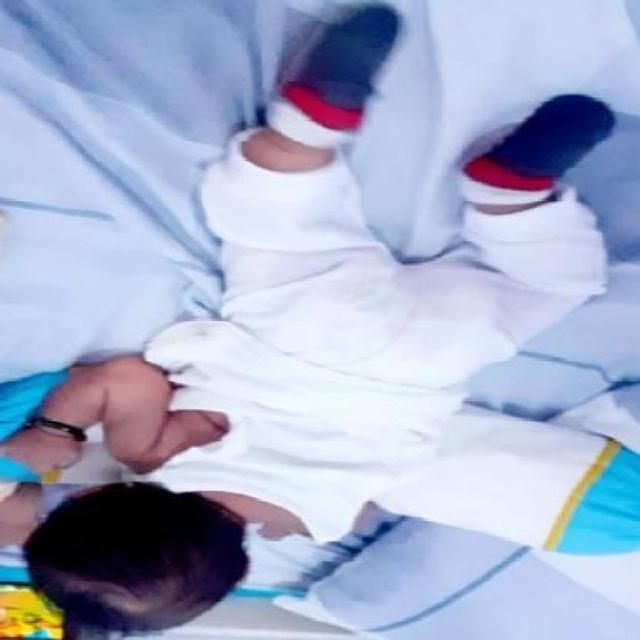baby: (0, 8, 618, 636)
